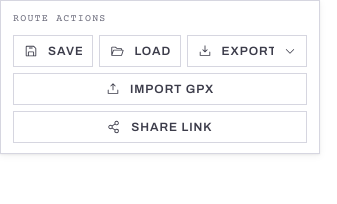
Test: RouteActionsPanel › hides "Send to Garmin" when the account is not connected
This screenshot has width=337, height=204.
Click the button with test id "rb2-export-route-button".
click(247, 50)  # box [186, 34, 307, 66]
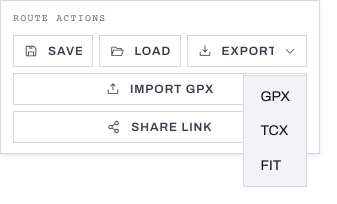
Now the menu item with test id "rb2-export-gpx" is shown, box [248, 80, 302, 114]
